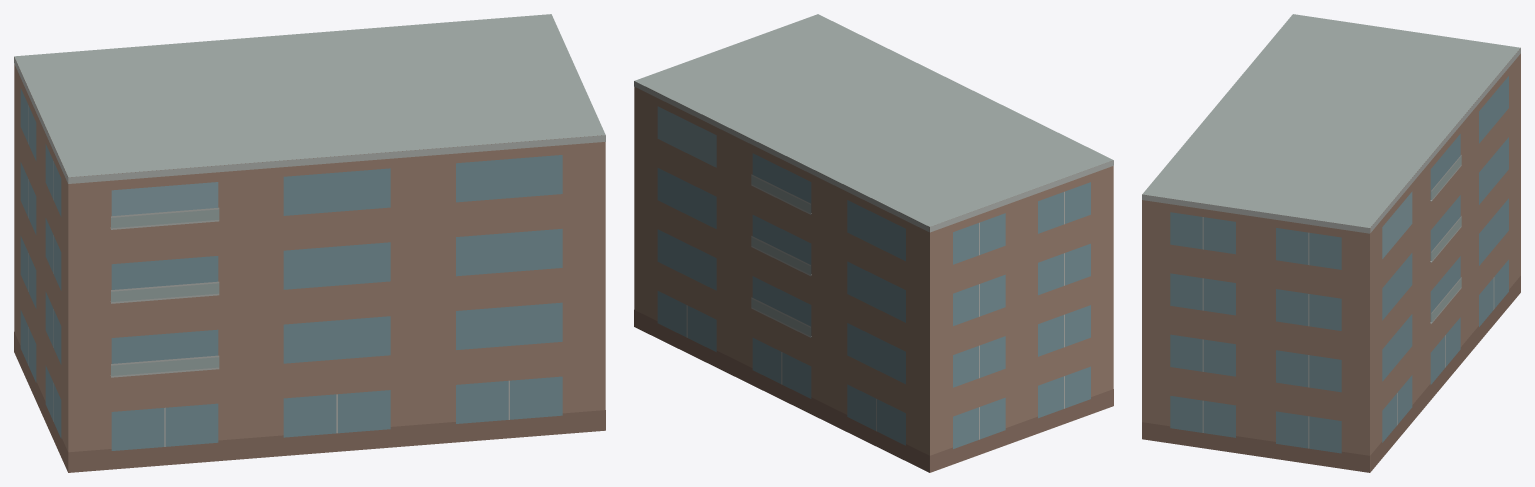
File: survey-upis-32985701.glb
The picture shows the model from 3 angles, left to right: view 1: azimuth 30°, elevation 25°; view 2: azimuth 150°, elevation 25°; view 3: azimuth 270°, elevation 25°; orthographic projection. The views are drawn at different scales.
Parts seen in each view (by area): view 1: survey-upis-32985701.tmp; view 2: survey-upis-32985701.tmp; view 3: survey-upis-32985701.tmp.
Part boxes in pixels (x1,y1,x2,y2): survey-upis-32985701.tmp: (14, 14, 605, 472); survey-upis-32985701.tmp: (634, 14, 1113, 472); survey-upis-32985701.tmp: (1142, 14, 1520, 472).
Size of the model in its own units: 20.08 by 10.7 by 15.02.
